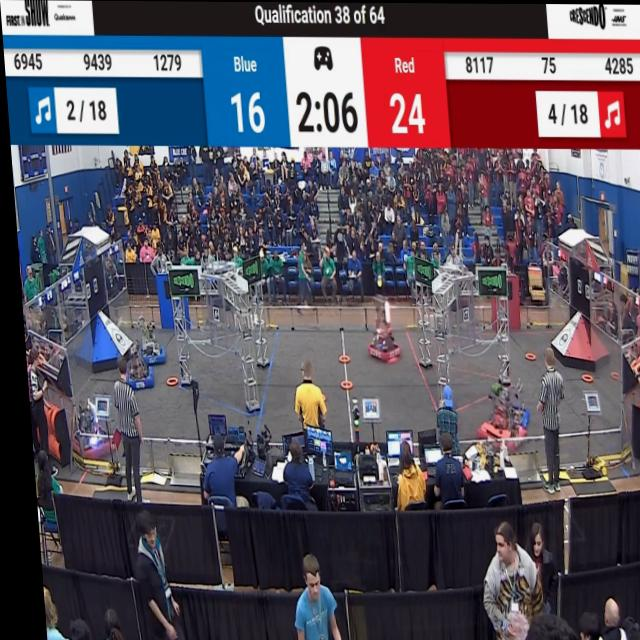Robot: (64, 388, 111, 459), (469, 383, 519, 449), (359, 304, 396, 366), (114, 341, 146, 390), (132, 318, 161, 369), (494, 385, 527, 428)
